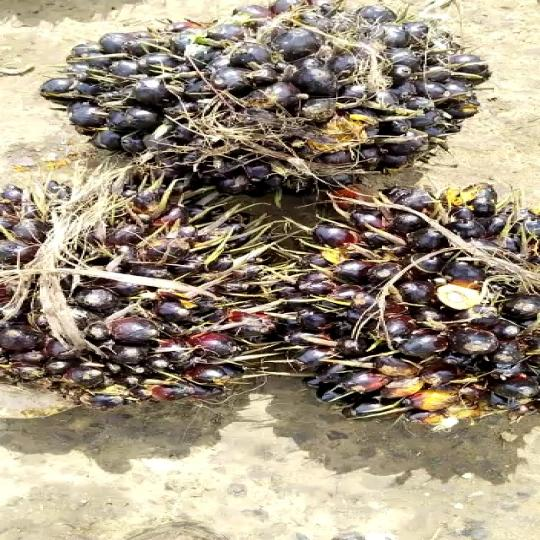mentah: (22, 0, 506, 193), (0, 176, 285, 443), (264, 184, 540, 434)
